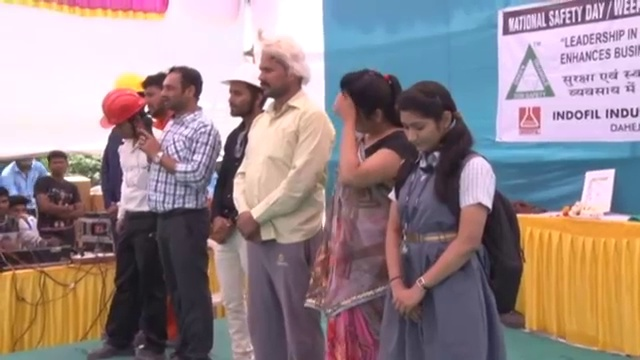helmet: (99, 84, 146, 131), (218, 60, 265, 93)
helmet_off: (393, 79, 464, 161), (339, 71, 398, 138), (252, 37, 312, 102), (161, 67, 204, 121), (137, 74, 167, 120), (43, 151, 66, 183), (9, 195, 34, 223), (13, 155, 35, 174), (0, 185, 10, 220)
helmet_on: (99, 84, 154, 146), (217, 60, 262, 123)
person: (384, 57, 523, 359), (232, 36, 336, 360), (133, 65, 222, 360), (327, 68, 413, 360), (87, 85, 163, 359), (206, 55, 266, 356), (32, 150, 83, 240), (0, 185, 52, 256), (1, 156, 47, 199)
